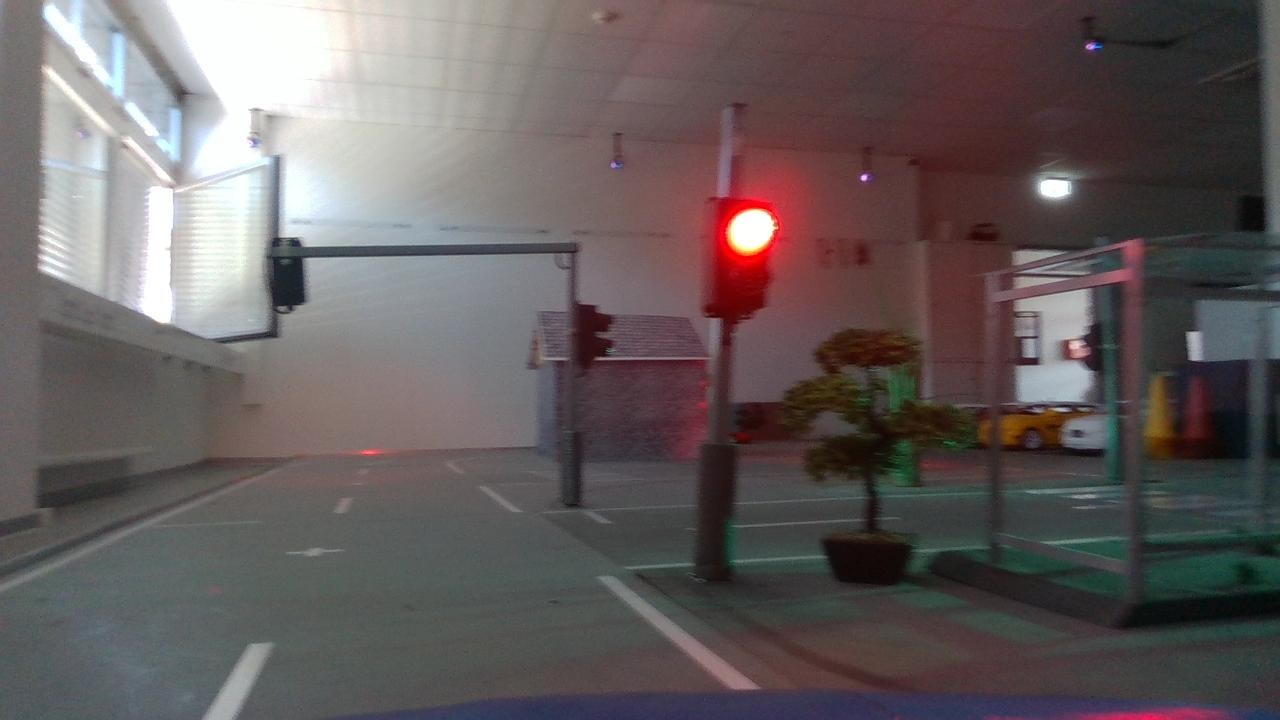traffic_light_red: (682, 182, 795, 339)
